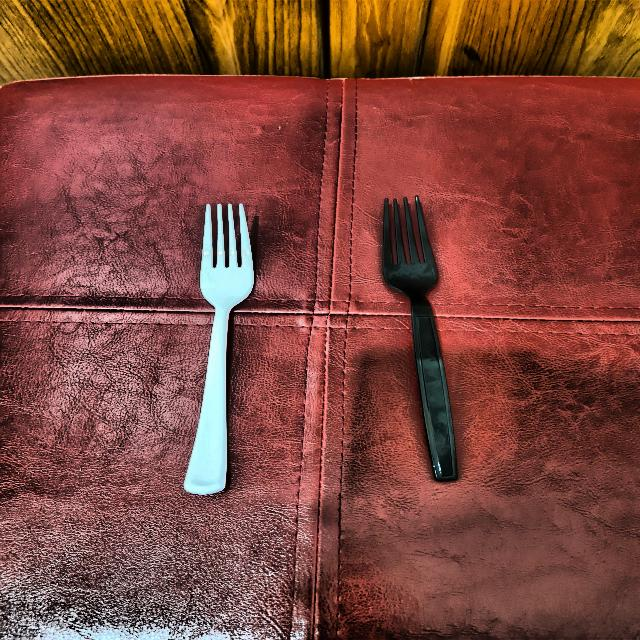plastic utensil: (373, 191, 470, 478), (185, 199, 263, 491)
